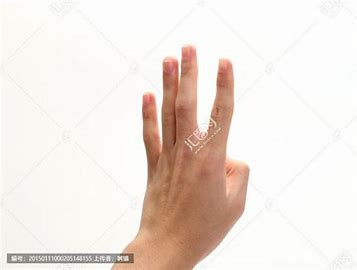right: (137, 43, 254, 229)
